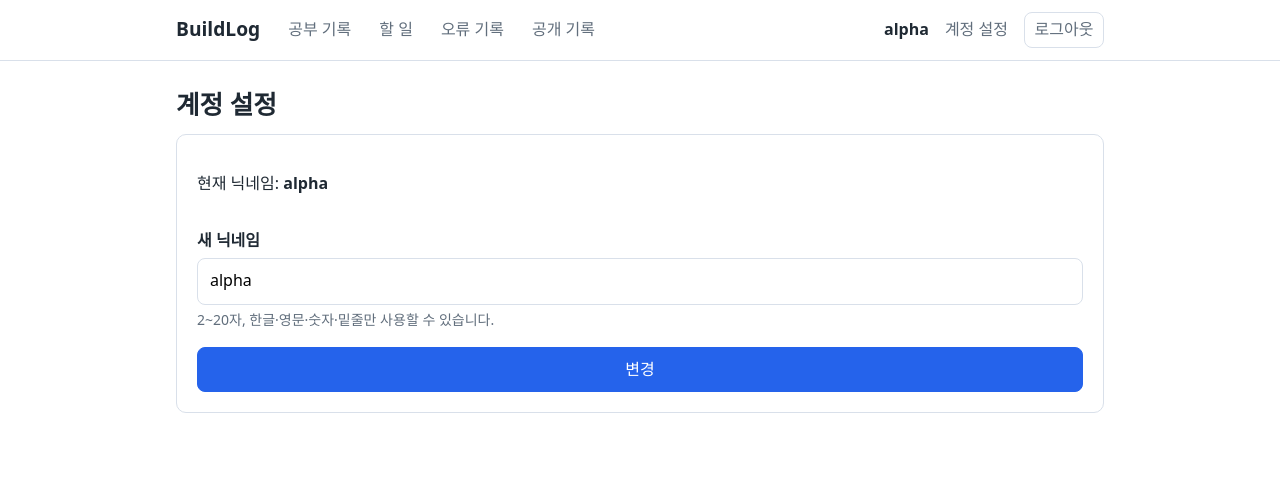
계정 설정(닉네임 변경) › 새 닉네임으로 바꾸면 화면의 닉네임도 바뀐다
Replace the text in the field labelled "새 닉네임" with "newname": coordinates (640, 281) [197, 258, 1083, 304]
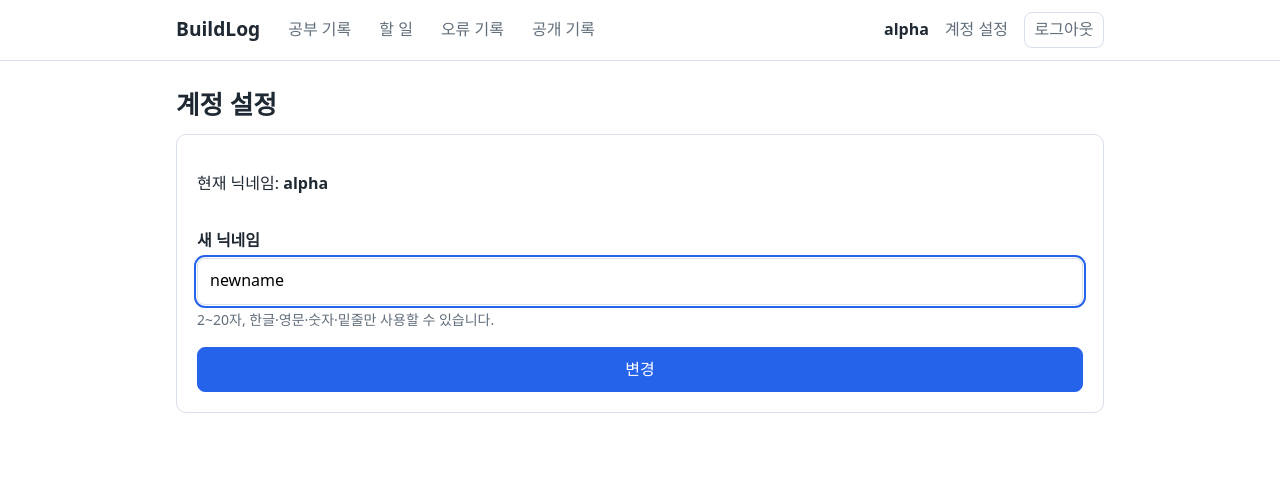
Click the button "변경": coordinates (640, 370) [197, 347, 1083, 392]
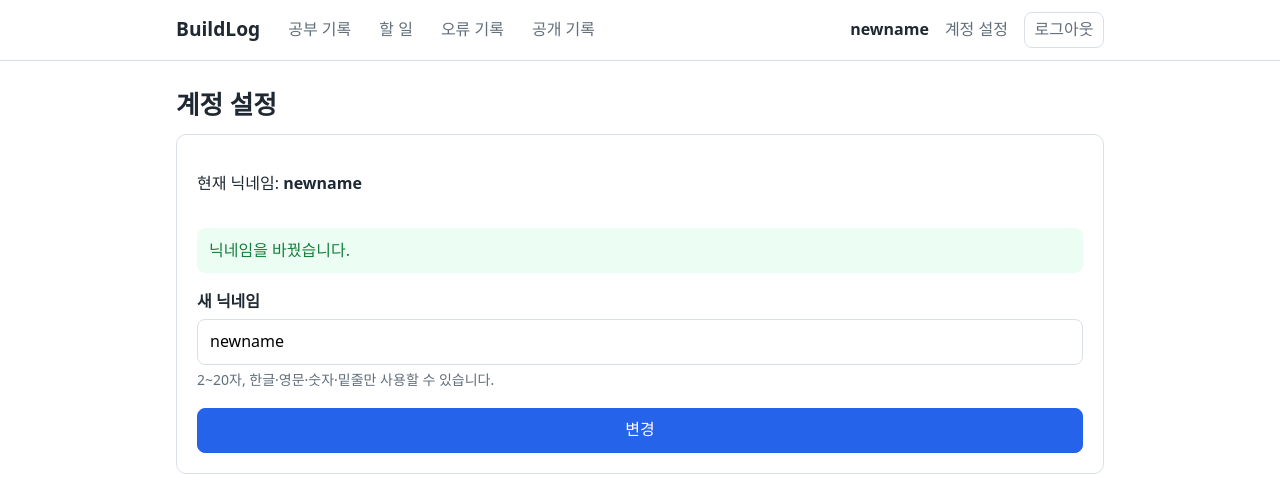
Expected: the text "닉네임을 바꿨습니다." is shown, [197, 228, 1083, 273]
Expected: the text "newname" in the row of "공개 기록" is shown, [850, 18, 929, 40]
